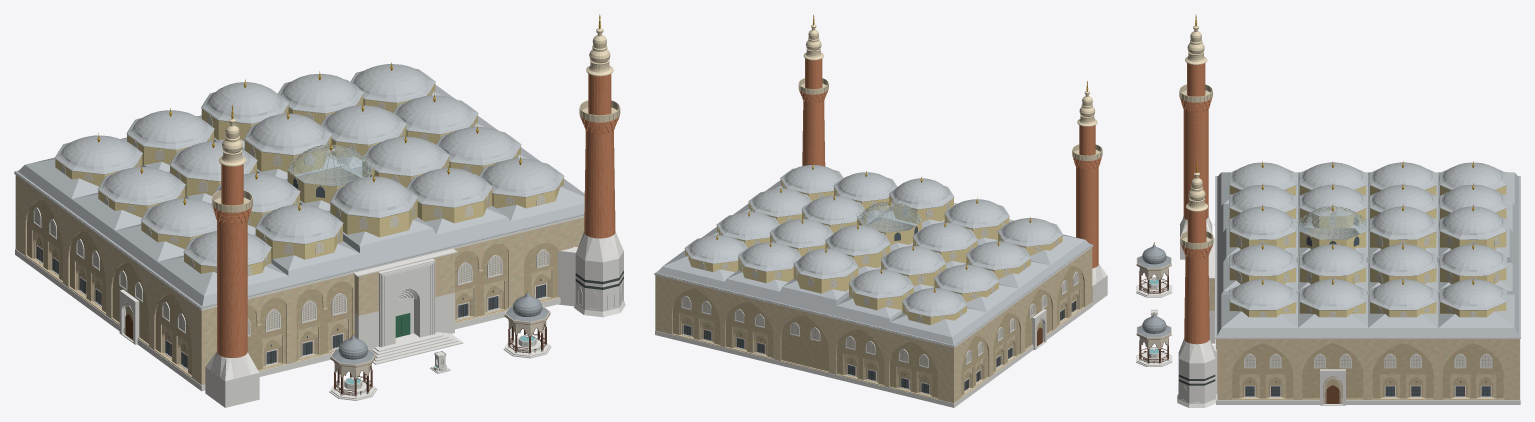
Rendered from ulu-cami_v29.glb.
The picture shows the model from 3 angles, left to right: view 1: azimuth 30°, elevation 25°; view 2: azimuth 150°, elevation 25°; view 3: azimuth 270°, elevation 25°; orthographic projection. The views are drawn at different scales.
Parts seen in each view (by area): view 1: Kubbeler_19, Cati, Cephe_Kuzey, Cephe_Dogu, Minare_1, Minare_2, Pencere_Girintileri, Tac_Kapi, Giris_Cikintili_Blok, Sadirvan_Kubbe, Kasnak_Pencereleri, Avlu_Sadirvan_Bati (+6 smaller); view 2: Kubbeler_19, Cephe_Guney, Cati, Cephe_Dogu, Pencere_Girintileri, Minare_2, Minare_1, Mermer_Bant, Sadirvan_Kubbe, Kasnak_Pencereleri, Silme_Ust, Sadirvan_Iskeleti (+1 smaller); view 3: Kubbeler_19, Cephe_Bati, Cati, Minare_1, Minare_2, Pencere_Girintileri, Sadirvan_Kubbe, Kasnak_Pencereleri, Avlu_Sadirvan_Dogu, Avlu_Sadirvan_Bati, Mermer_Bant, Kapi_Bati (+3 smaller).
Part boxes in pixels (x1=…): Kubbeler_19: x1=54, y1=64, x2=564, y2=276; Cati: x1=14, y1=84, x2=584, y2=308; Cephe_Kuzey: x1=201, y1=217, x2=584, y2=384; Cephe_Dogu: x1=16, y1=175, x2=200, y2=384; Minare_1: x1=558, y1=14, x2=625, y2=317; Minare_2: x1=205, y1=104, x2=259, y2=407; Pencere_Girintileri: x1=31, y1=229, x2=553, y2=372; Tac_Kapi: x1=371, y1=258, x2=463, y2=364; Giris_Cikintili_Blok: x1=353, y1=248, x2=457, y2=350; Sadirvan_Kubbe: x1=287, y1=145, x2=374, y2=203; Kasnak_Pencereleri: x1=61, y1=90, x2=560, y2=275; Avlu_Sadirvan_Bati: x1=503, y1=290, x2=551, y2=358; Kubbeler_19: x1=684, y1=165, x2=1062, y2=325; Cephe_Guney: x1=655, y1=275, x2=954, y2=403; Cati: x1=654, y1=180, x2=1092, y2=346; Cephe_Dogu: x1=954, y1=248, x2=1091, y2=402; Pencere_Girintileri: x1=678, y1=287, x2=1080, y2=396; Minare_2: x1=1072, y1=81, x2=1107, y2=305; Minare_1: x1=798, y1=14, x2=828, y2=166; Mermer_Bant: x1=655, y1=302, x2=1092, y2=407; Sadirvan_Kubbe: x1=857, y1=202, x2=922, y2=245; Kasnak_Pencereleri: x1=687, y1=184, x2=1058, y2=322; Silme_Ust: x1=654, y1=245, x2=1093, y2=347; Sadirvan_Iskeleti: x1=857, y1=201, x2=922, y2=231; Kubbeler_19: x1=1229, y1=162, x2=1506, y2=317; Cephe_Bati: x1=1217, y1=339, x2=1518, y2=403; Cati: x1=1215, y1=172, x2=1520, y2=337; Minare_1: x1=1177, y1=161, x2=1217, y2=407; Minare_2: x1=1179, y1=14, x2=1212, y2=259; Pencere_Girintileri: x1=1239, y1=374, x2=1496, y2=398; Sadirvan_Kubbe: x1=1299, y1=207, x2=1366, y2=249; Kasnak_Pencereleri: x1=1236, y1=185, x2=1499, y2=316; Avlu_Sadirvan_Dogu: x1=1136, y1=242, x2=1172, y2=297; Avlu_Sadirvan_Bati: x1=1136, y1=312, x2=1172, y2=366; Mermer_Bant: x1=1215, y1=339, x2=1520, y2=404; Kapi_Bati: x1=1320, y1=369, x2=1345, y2=405.
Bounding box in the file's own units: 70.59 × 48.1 × 70.23.
Materials: 40 (5 with a texture image).
